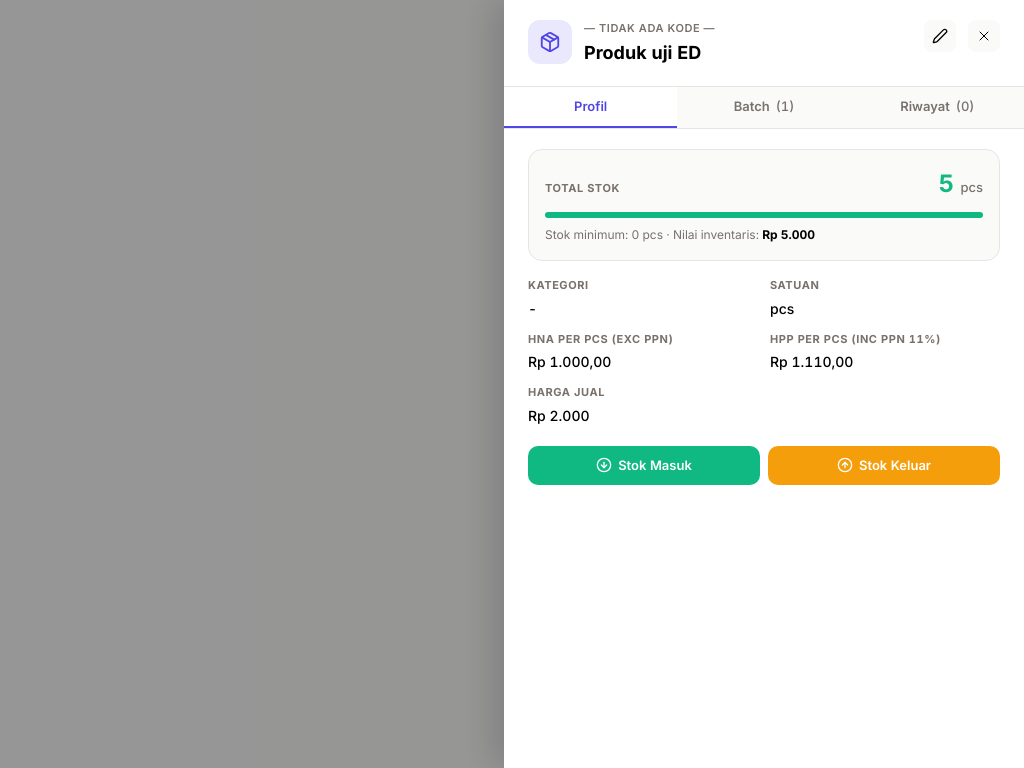
Test case: ProductDrawer status ED › ED month Februari kabisat berlaku sampai 29 Februari dan tampil bulan
What coordinates should you click on to do the following:
click the button "Batch(1)"
I would click on:
 (764, 107)
Its box is [677,86,851,128].
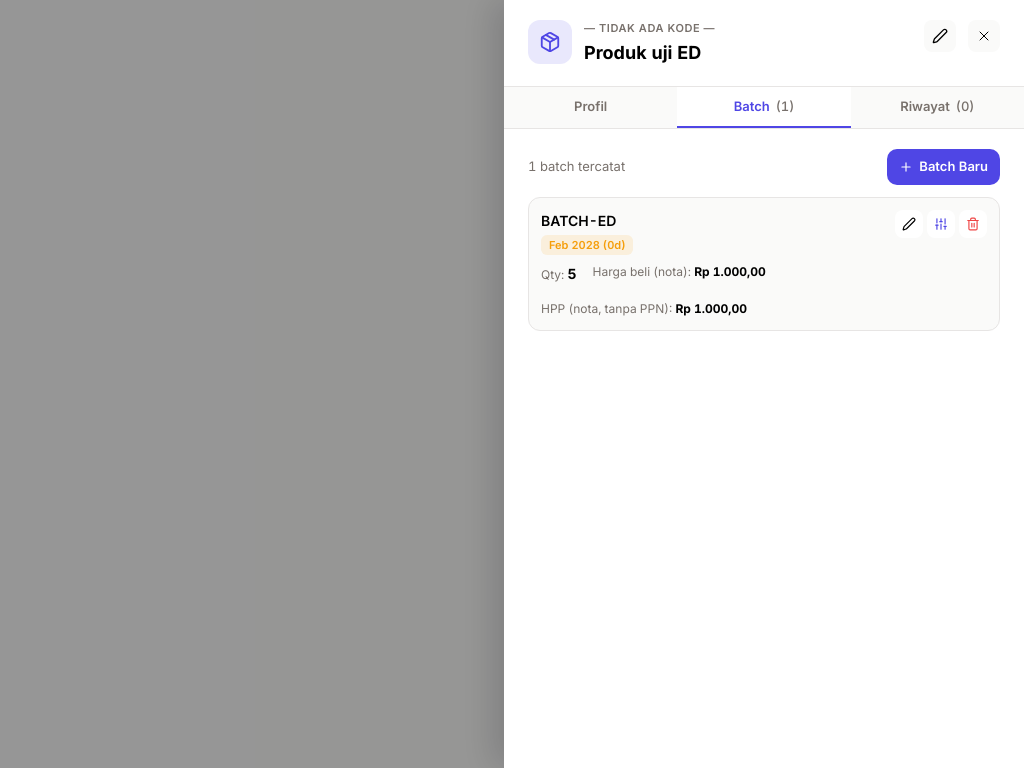
Check: the text "Feb 2028 (0d)" is shown, box [541,234,633,255]
